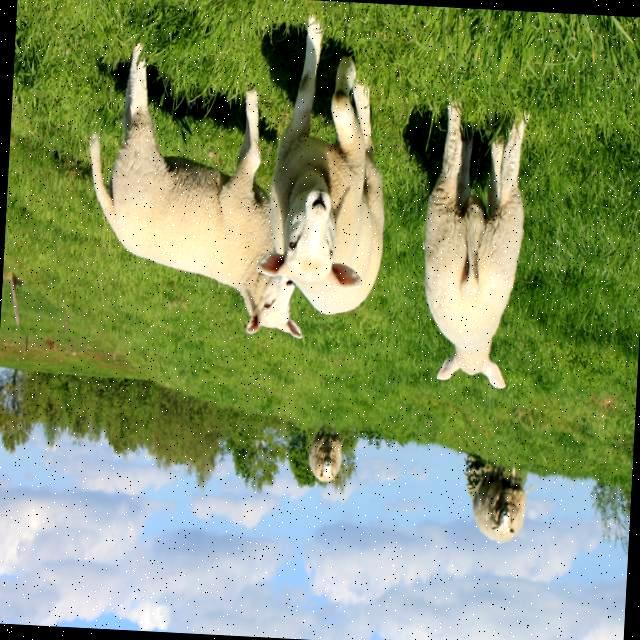sheep: (89, 43, 300, 338), (256, 17, 383, 316), (423, 104, 523, 387), (471, 466, 523, 542), (307, 431, 341, 481)
